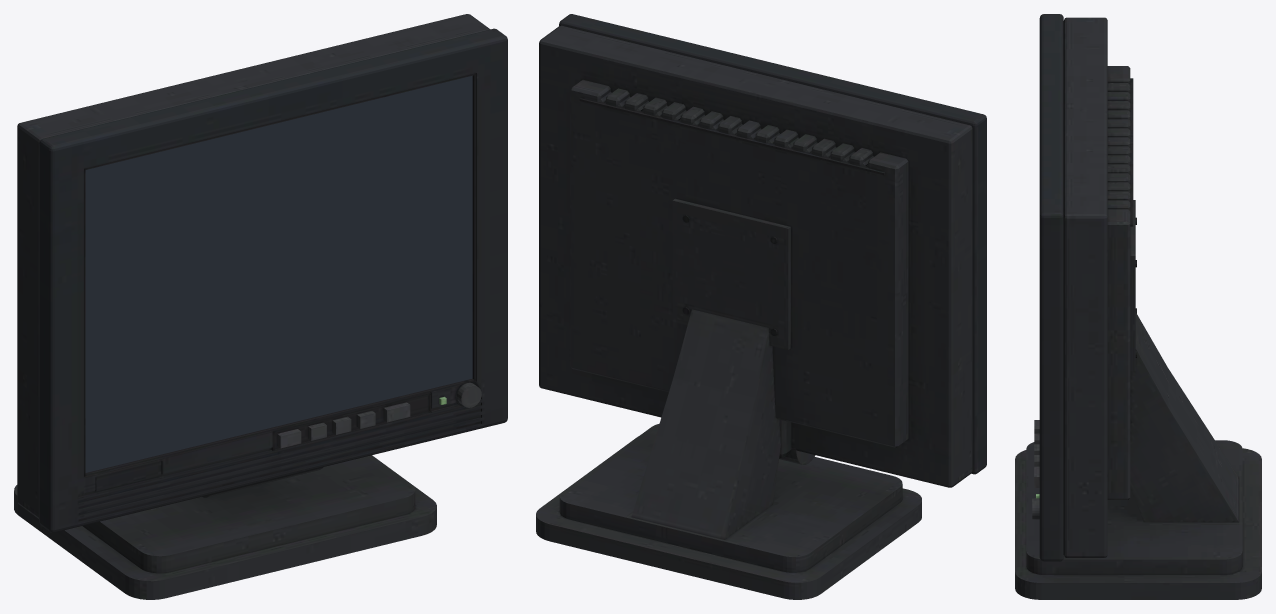
File: lcd-a.glb
The picture shows the model from 3 angles, left to right: view 1: azimuth 30°, elevation 25°; view 2: azimuth 150°, elevation 25°; view 3: azimuth 270°, elevation 25°; orthographic projection. The views are drawn at different scales.
Visible parts, largest first — view 1: glass, case-baked; view 2: case-baked; view 3: case-baked.
Part boxes in pixels (x1,y1,x2,y2): glass: (85,75,472,472); case-baked: (14,14,507,599); case-baked: (536,14,986,599); case-baked: (1015,14,1261,599).
Bounding box in the file's own units: 0.3575 × 0.3465 × 0.185.
Materials: 2 (1 with a texture image).
